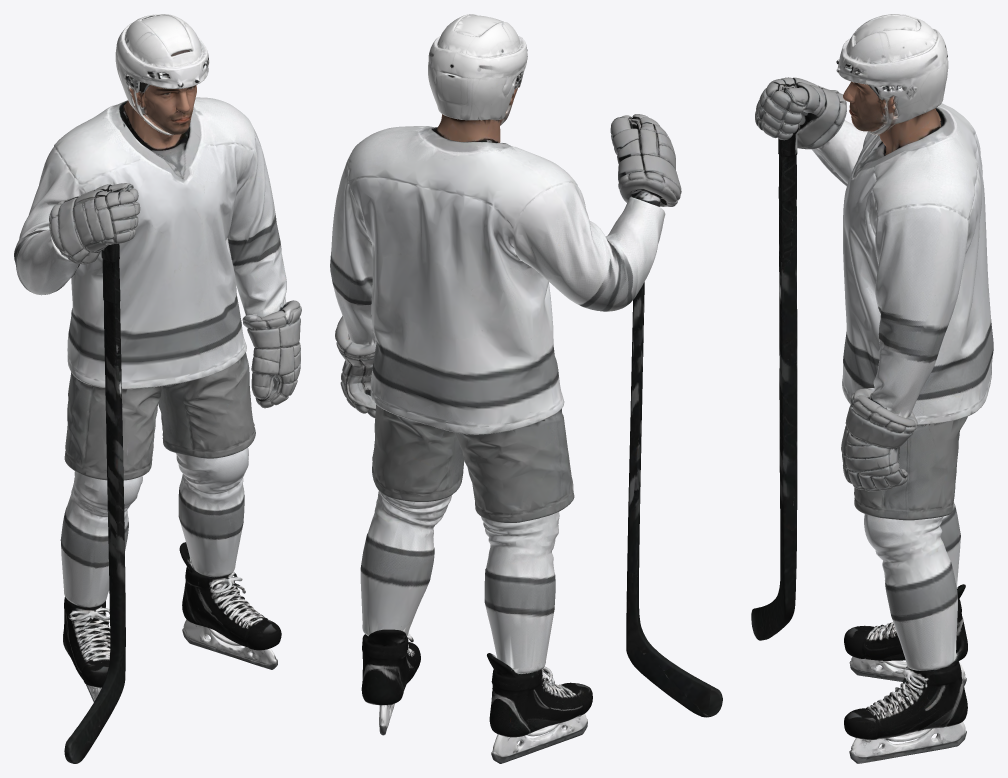
Rendered from standing_hi.glb.
3 renders of one model, left to right at view 1: azimuth 30°, elevation 25°; view 2: azimuth 150°, elevation 25°; view 3: azimuth 270°, elevation 25°, orthographic. The views are drawn at different scales.
Size of the model in its own units: 0.8915 by 1.9 by 0.602.
Materials: 1 (1 with a texture image).
